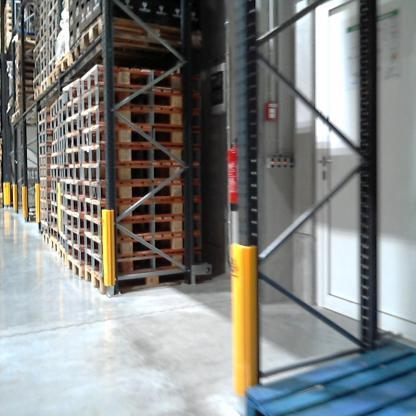pallets: (230, 341, 415, 415), (44, 229, 107, 296), (104, 264, 190, 304), (33, 51, 76, 107), (67, 14, 104, 76)
